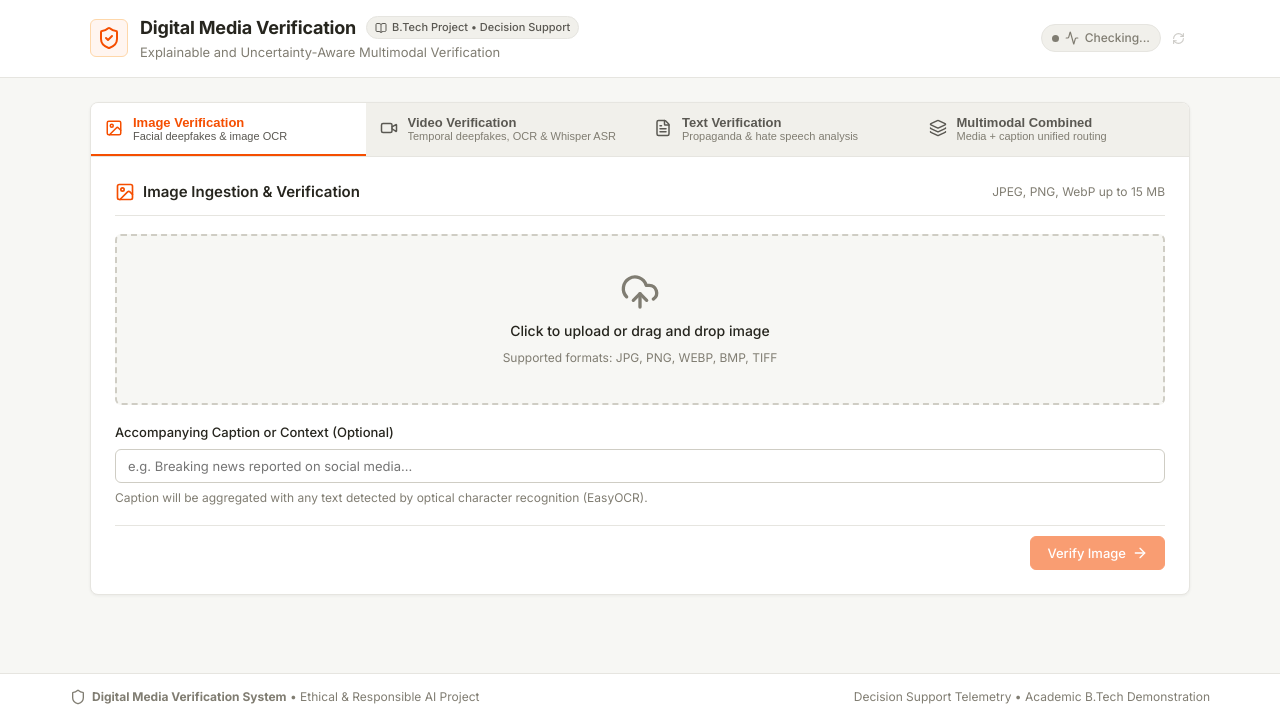
Test: Digital Media Verification Frontend Test Suite › 5. API failure handling renders user-friendly error alert without raw tracebacks
Click the button "Text Verification Propaganda & hate speech analysis": (777, 129) [640, 102, 914, 156]
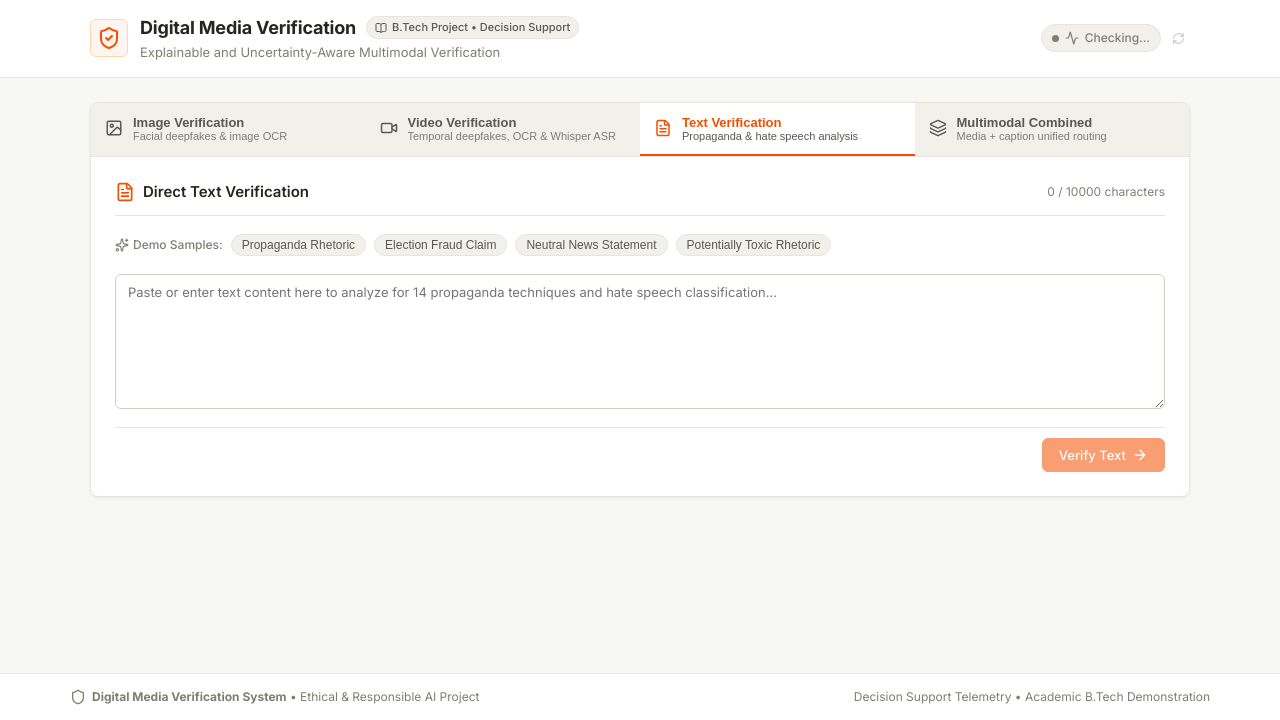
Replace the text in the text box with placeholder "Paste or enter text content here" with "Test text for failure test": (640, 342) [115, 274, 1165, 409]
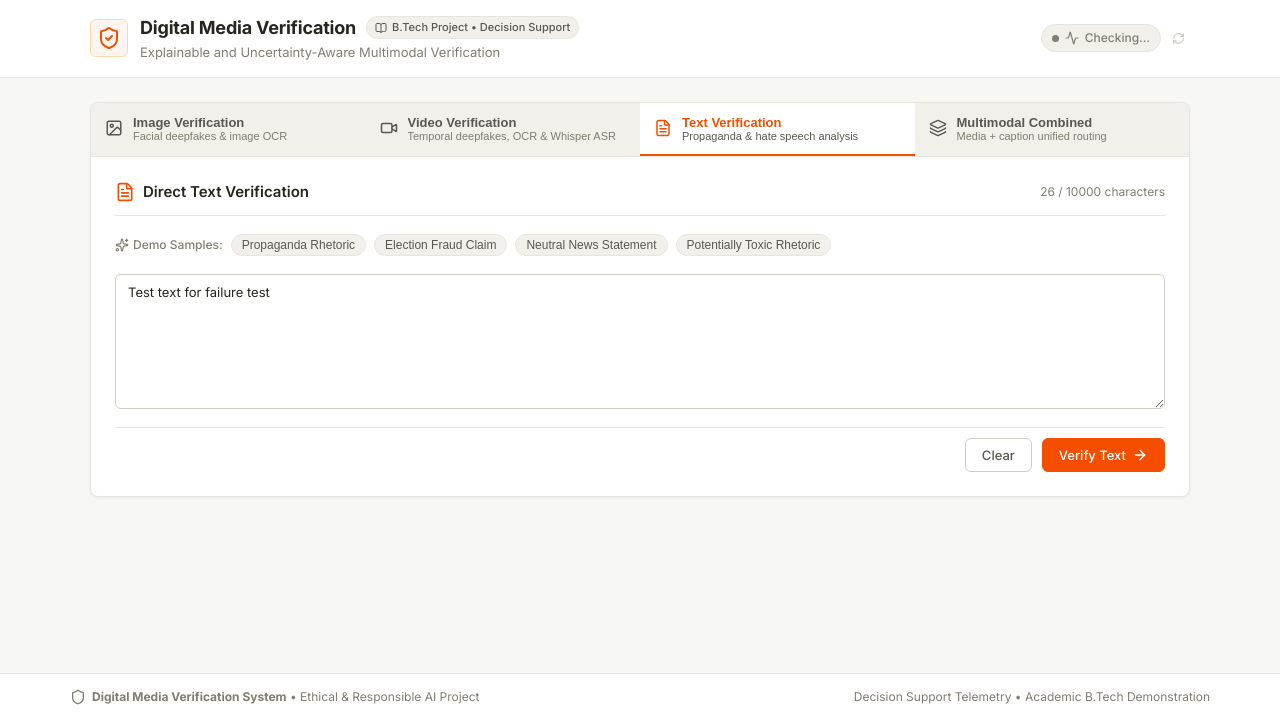
Click the button "Verify Text": (1103, 455) [1042, 438, 1165, 472]
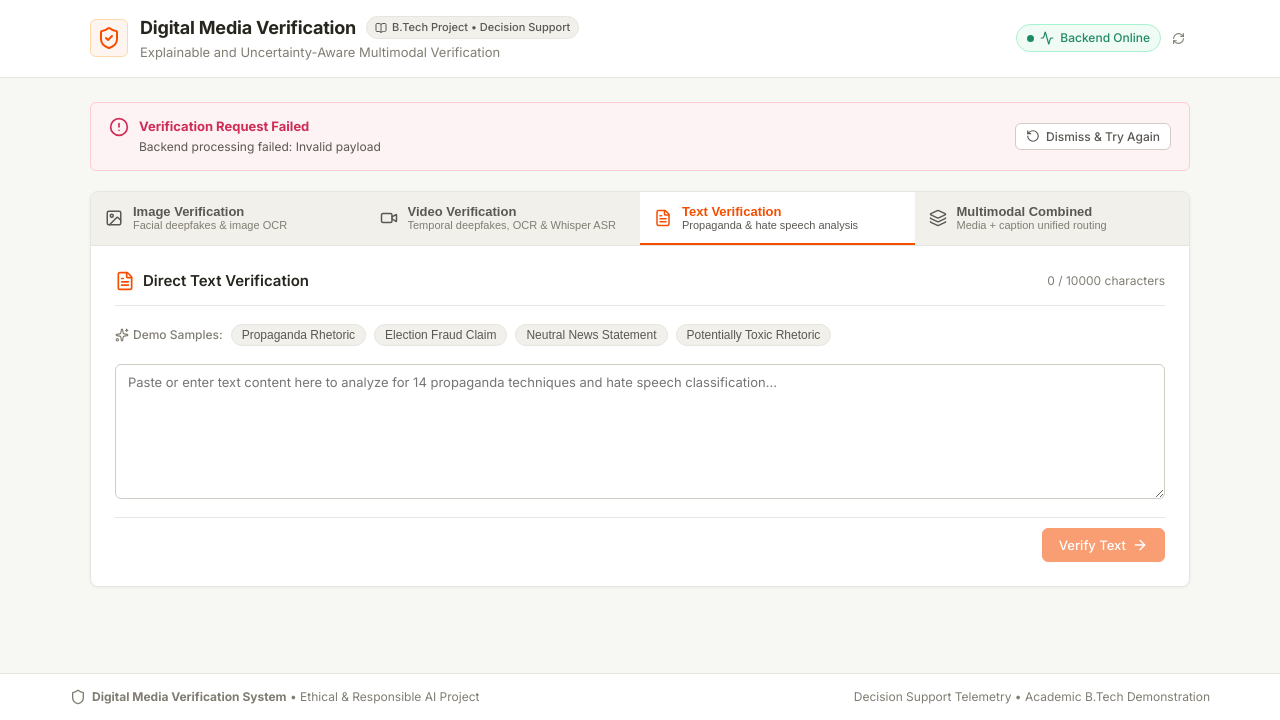
Expected: the text "Verification Request Failed" is shown, [139, 118, 309, 134]
Expected: the text "Backend processing failed: Invalid payload" is shown, [139, 138, 381, 156]
Click the button "Dismiss & Try Again": (1093, 136) [1015, 123, 1171, 150]
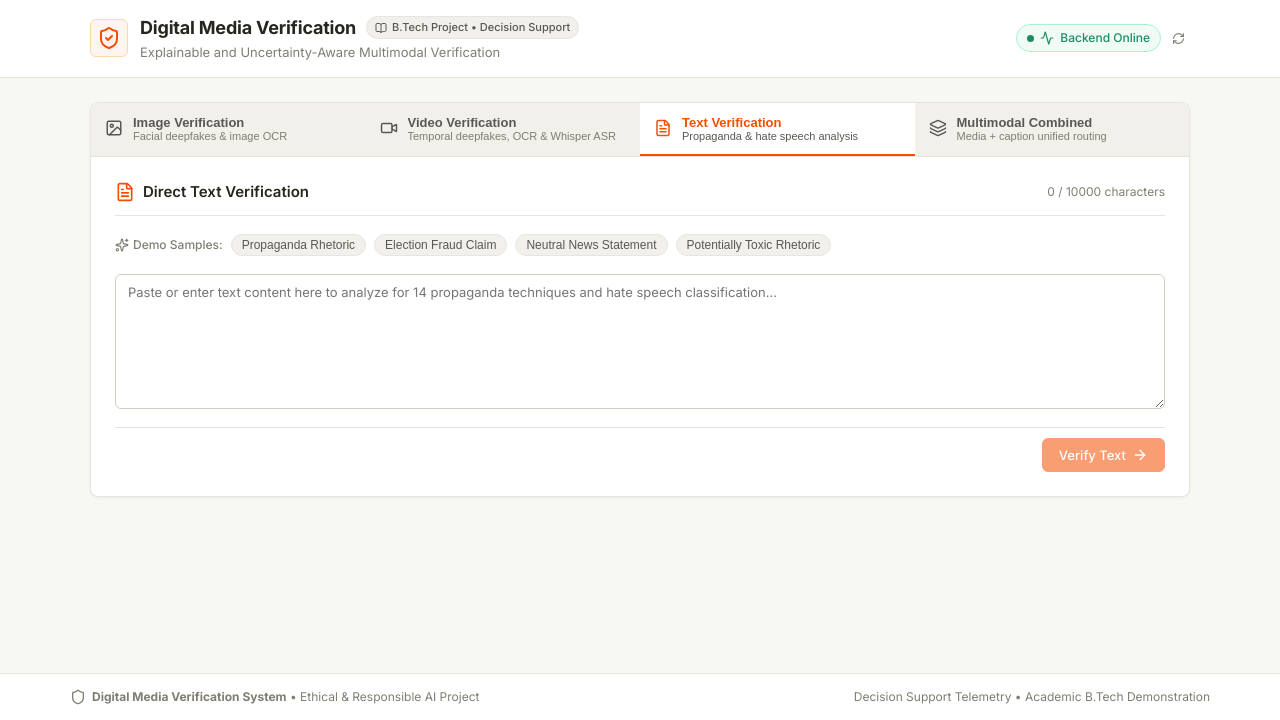
Expected: the text "Verification Request Failed" is gone
